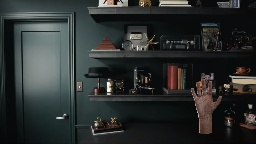Mano_aperta: (188, 78, 223, 115)
